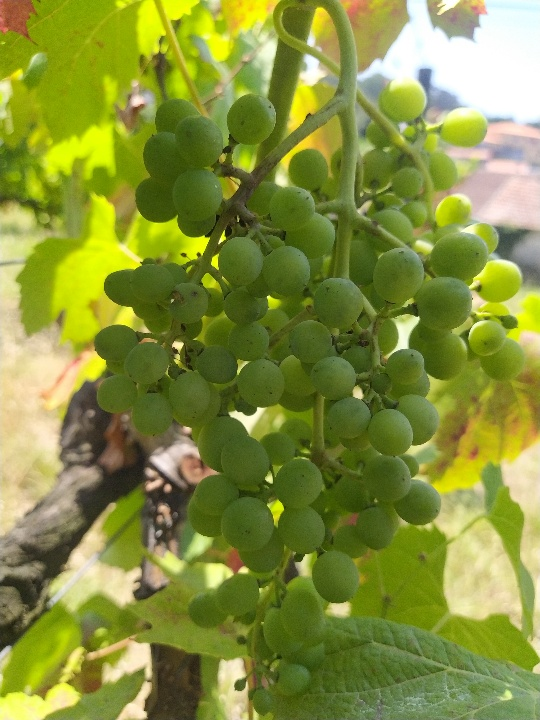grape: (93, 76, 523, 719)
